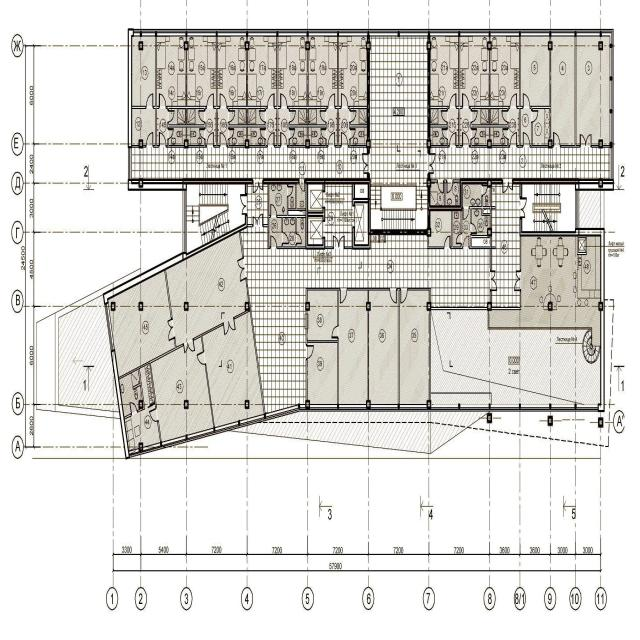Bathrooms: (119, 369, 143, 416), (269, 184, 287, 215), (472, 209, 490, 236), (463, 185, 481, 206), (283, 219, 296, 247), (431, 183, 445, 205), (308, 128, 326, 145), (248, 127, 265, 145), (187, 127, 204, 145), (290, 128, 307, 145), (430, 128, 447, 145), (169, 128, 186, 145), (230, 127, 246, 145), (351, 127, 367, 145), (446, 183, 459, 205), (453, 211, 461, 246), (490, 128, 507, 144), (472, 128, 489, 144), (309, 109, 325, 125), (290, 109, 307, 124), (187, 109, 204, 124), (472, 109, 489, 124), (248, 109, 264, 124), (230, 109, 246, 124), (431, 109, 447, 124), (491, 109, 507, 124), (169, 109, 185, 124), (351, 109, 366, 125), (297, 184, 306, 209), (297, 218, 305, 246), (288, 184, 295, 208), (483, 186, 490, 206)
Corridors: (128, 299, 614, 459), (241, 228, 490, 413), (166, 233, 249, 347), (370, 37, 427, 178), (132, 148, 367, 178), (151, 337, 213, 442), (430, 147, 610, 179), (492, 184, 520, 307), (125, 366, 160, 451), (325, 185, 352, 246), (133, 109, 155, 145), (579, 191, 600, 228), (248, 185, 267, 224), (269, 218, 282, 246), (339, 109, 349, 145), (327, 109, 337, 145), (206, 109, 216, 145), (460, 109, 470, 145), (521, 109, 531, 145), (157, 109, 167, 145), (509, 109, 519, 145), (218, 110, 228, 145), (448, 110, 458, 145), (279, 110, 288, 145), (267, 109, 276, 144), (462, 209, 470, 247)
Doors: (236, 256, 247, 283), (223, 316, 236, 337), (166, 317, 176, 343), (252, 211, 264, 229), (332, 234, 345, 250), (239, 193, 248, 216), (427, 152, 436, 175), (183, 338, 195, 355), (252, 178, 263, 196), (148, 406, 159, 424), (361, 152, 370, 174), (579, 133, 592, 147), (502, 178, 513, 194), (519, 197, 527, 219), (306, 343, 315, 362), (490, 270, 498, 291), (279, 91, 288, 109), (552, 131, 561, 149), (514, 270, 521, 292), (389, 288, 398, 305), (327, 92, 336, 109), (327, 131, 336, 148), (522, 92, 531, 109), (522, 131, 531, 148), (145, 92, 154, 109), (339, 287, 347, 306), (400, 287, 408, 306), (196, 351, 206, 366), (146, 130, 154, 148), (341, 130, 349, 147), (341, 92, 349, 109), (280, 131, 288, 148), (267, 131, 275, 148), (219, 131, 227, 148), (206, 131, 214, 148), (219, 92, 227, 109), (206, 92, 214, 109), (449, 92, 457, 109), (462, 92, 470, 109), (509, 92, 517, 109), (159, 92, 167, 109), (159, 131, 167, 148), (331, 324, 339, 340), (267, 92, 275, 108), (449, 131, 457, 147), (461, 131, 469, 147), (446, 179, 454, 195), (509, 131, 517, 147), (129, 402, 138, 416), (319, 109, 327, 124), (440, 109, 448, 124), (167, 109, 175, 124), (288, 109, 296, 123), (198, 109, 206, 123), (531, 109, 539, 123), (349, 109, 357, 123), (444, 234, 451, 249), (270, 234, 277, 249), (462, 206, 469, 221), (270, 203, 278, 216), (258, 110, 266, 123), (228, 109, 236, 122), (470, 109, 478, 122), (470, 222, 478, 235), (463, 234, 470, 248), (282, 232, 289, 246), (287, 185, 294, 199), (501, 110, 509, 122), (295, 232, 302, 245), (259, 127, 266, 140), (199, 128, 206, 141), (349, 127, 356, 140), (481, 184, 488, 197), (438, 179, 444, 194), (455, 233, 462, 245), (320, 128, 327, 140), (288, 128, 295, 140), (441, 128, 448, 140), (502, 128, 509, 140), (299, 179, 305, 193), (471, 128, 478, 139), (167, 128, 174, 139), (228, 128, 234, 140), (323, 191, 325, 207), (323, 222, 325, 237), (353, 206, 354, 226), (585, 240, 586, 250)
LBwalls: (519, 217, 605, 412), (103, 215, 248, 304), (304, 173, 427, 250), (427, 173, 503, 227), (111, 350, 130, 460), (512, 178, 614, 198), (128, 178, 253, 191), (128, 28, 134, 148), (427, 51, 430, 140), (367, 51, 370, 139), (263, 178, 299, 184), (487, 413, 492, 423), (548, 416, 553, 426), (138, 41, 143, 50), (184, 41, 189, 50), (245, 41, 250, 50), (305, 41, 310, 50), (111, 302, 116, 311), (184, 302, 189, 311), (366, 302, 371, 311), (366, 41, 371, 50), (426, 41, 431, 50), (427, 139, 432, 148), (487, 41, 492, 50), (487, 179, 492, 188), (487, 228, 492, 237), (426, 178, 431, 187), (426, 302, 431, 311), (487, 302, 492, 311), (138, 442, 143, 451), (305, 400, 310, 409), (366, 400, 371, 409), (426, 400, 431, 409), (598, 418, 603, 427), (598, 302, 603, 311), (598, 178, 603, 187), (548, 139, 553, 148), (548, 41, 553, 50), (598, 41, 603, 50), (138, 140, 143, 148), (245, 140, 250, 148), (184, 140, 189, 148), (245, 302, 250, 310), (305, 302, 310, 310), (366, 140, 371, 148), (305, 140, 310, 148), (487, 140, 492, 148), (426, 228, 431, 236), (548, 302, 553, 310), (598, 140, 603, 148), (427, 31, 431, 41), (139, 302, 143, 311), (139, 400, 143, 409), (184, 400, 188, 409), (245, 400, 249, 409), (245, 185, 247, 195), (427, 148, 430, 154), (367, 148, 370, 153)
Offices: (431, 310, 600, 404), (489, 237, 600, 345), (203, 311, 264, 427), (109, 271, 175, 377), (577, 36, 610, 145), (339, 290, 368, 404), (369, 291, 398, 404), (400, 291, 429, 404), (551, 37, 575, 145), (187, 37, 216, 106), (460, 37, 489, 106), (339, 37, 367, 106), (248, 37, 276, 106), (218, 37, 246, 106), (491, 37, 519, 106), (521, 37, 549, 106), (157, 37, 185, 106), (309, 37, 337, 105), (279, 37, 306, 106), (431, 37, 458, 106), (308, 343, 337, 404), (132, 37, 155, 106), (307, 290, 337, 340), (429, 212, 452, 247), (533, 109, 550, 145)
Stairs: (187, 185, 245, 254), (371, 178, 427, 229), (522, 184, 575, 231), (582, 331, 600, 364)
Walls: (119, 338, 184, 408), (234, 278, 266, 418), (487, 311, 601, 347), (166, 50, 207, 140), (287, 50, 328, 139), (227, 50, 268, 139), (469, 50, 510, 139), (305, 311, 339, 410), (560, 31, 580, 148), (530, 50, 551, 139), (277, 184, 306, 234), (306, 287, 340, 325), (469, 188, 495, 228), (469, 233, 496, 271), (193, 322, 224, 352), (456, 31, 463, 148), (516, 31, 523, 148), (213, 31, 220, 148), (274, 31, 281, 148), (335, 31, 342, 148), (153, 31, 160, 147), (205, 364, 216, 431), (396, 287, 401, 410), (347, 288, 390, 302), (492, 291, 521, 310), (133, 369, 145, 413), (450, 210, 463, 250), (144, 364, 155, 408), (530, 122, 548, 147), (165, 269, 173, 319), (408, 287, 431, 302), (267, 184, 271, 249), (427, 237, 444, 249), (577, 236, 587, 255), (429, 311, 431, 399), (431, 307, 487, 310), (310, 139, 328, 148), (287, 139, 305, 148), (250, 139, 268, 148), (227, 139, 245, 148), (431, 139, 449, 148), (469, 139, 487, 148), (492, 139, 510, 148), (348, 139, 366, 148), (277, 244, 305, 249), (239, 231, 244, 257), (349, 121, 367, 128), (157, 419, 162, 442), (601, 191, 604, 228), (430, 122, 448, 128), (368, 311, 369, 400), (306, 359, 308, 400), (348, 106, 367, 110), (430, 106, 450, 109), (444, 180, 446, 206), (124, 413, 131, 419), (132, 106, 146, 109), (520, 236, 521, 270), (453, 179, 460, 183), (344, 246, 352, 249), (461, 210, 462, 233), (490, 291, 492, 302), (591, 145, 598, 148), (610, 142, 613, 149), (574, 403, 577, 410), (307, 31, 309, 41), (489, 31, 491, 41), (549, 31, 551, 41), (248, 224, 253, 228), (132, 145, 138, 148), (246, 32, 248, 41), (603, 145, 609, 148), (549, 403, 552, 409), (325, 247, 334, 249), (378, 235, 380, 243), (384, 235, 386, 243), (160, 442, 163, 447), (263, 224, 268, 227), (519, 403, 521, 410), (431, 180, 438, 182), (398, 30, 400, 37), (298, 403, 300, 409), (610, 44, 613, 48), (610, 76, 613, 80), (610, 109, 613, 113), (489, 403, 491, 409), (458, 404, 460, 410), (185, 435, 188, 439), (238, 420, 240, 426), (140, 30, 142, 36), (186, 31, 187, 41), (143, 145, 146, 148), (585, 250, 586, 253), (287, 184, 288, 187), (585, 238, 586, 240)
Windows: (134, 28, 614, 180), (129, 404, 598, 458), (104, 303, 115, 352), (183, 190, 187, 252), (575, 190, 579, 229), (128, 148, 132, 180)
